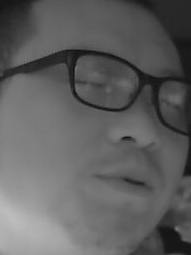glass: (66, 49, 140, 113), (152, 70, 191, 133)
mouth: (97, 160, 154, 199)
